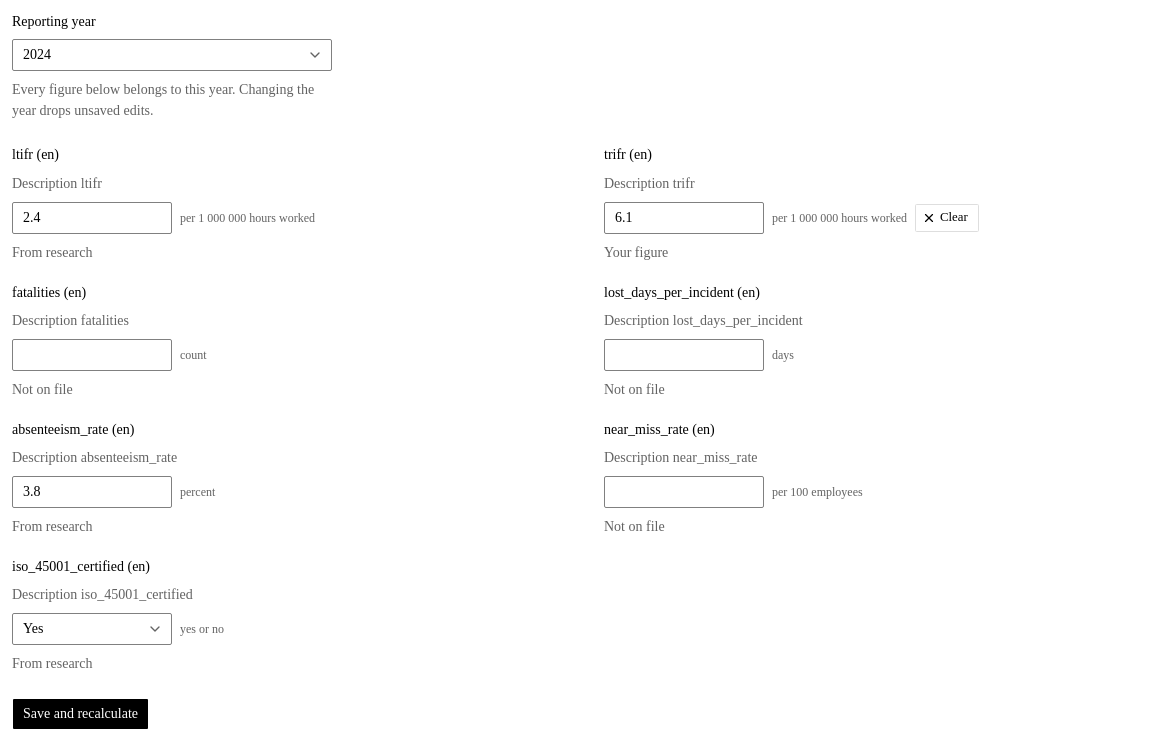
Test: KpiForm (AC-3, AC-7) › clears a client value through its own action, announces it and refreshes
Click the button "Clear".
click(947, 218)  # box x1=915 y1=204 x2=979 y2=232
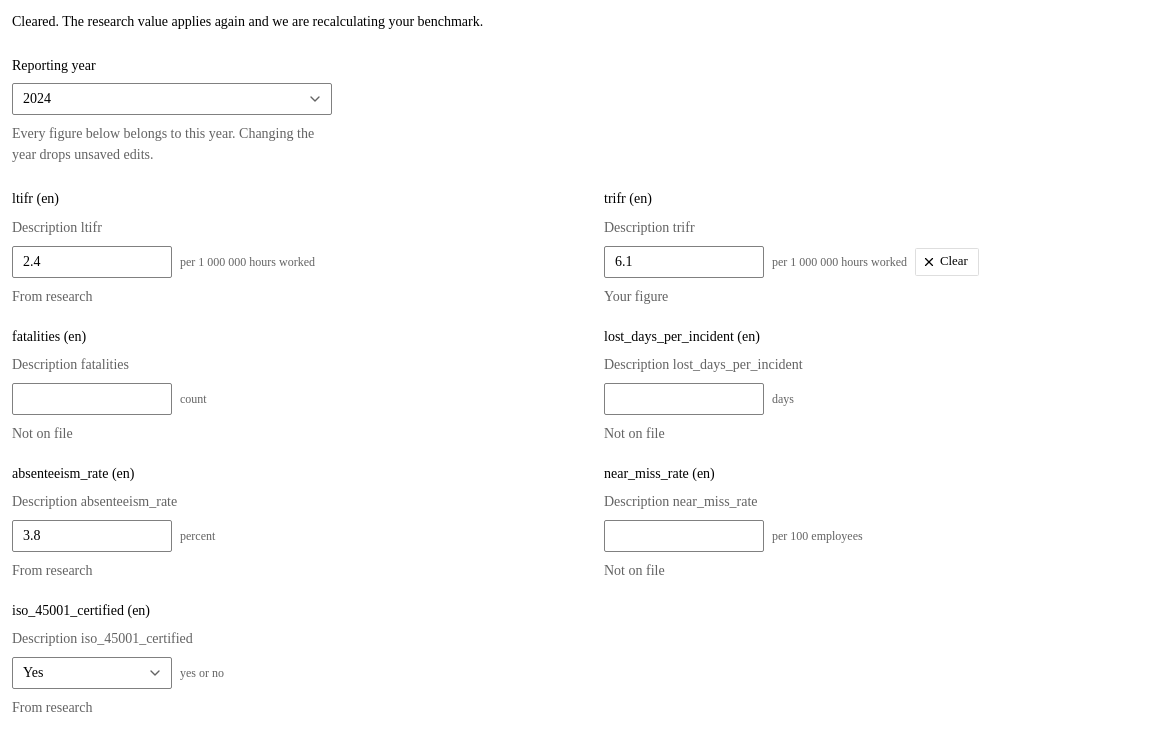
Check: the message shows "Cleared. The research value applies again and we are recalculating your benchmark.", box x1=12 y1=14 x2=483 y2=29
